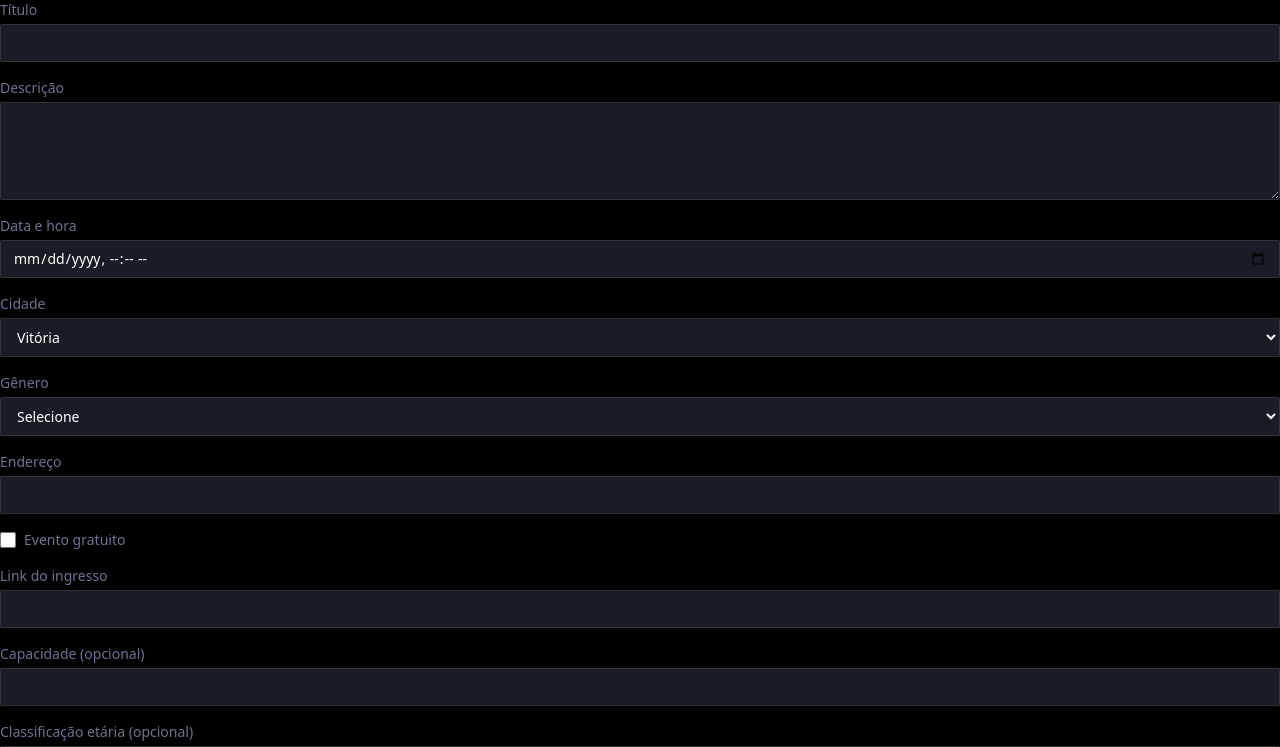
Test case: EventForm › GIVEN a free event toggle WHEN checked THEN the ticket link field disappears
The image size is (1280, 747).
Check: the field labelled "Link do ingresso" is shown, box [0,590,1279,628]
Click the checkbox labelled "Evento gratuito" at (8, 540), box [0,532,16,548]
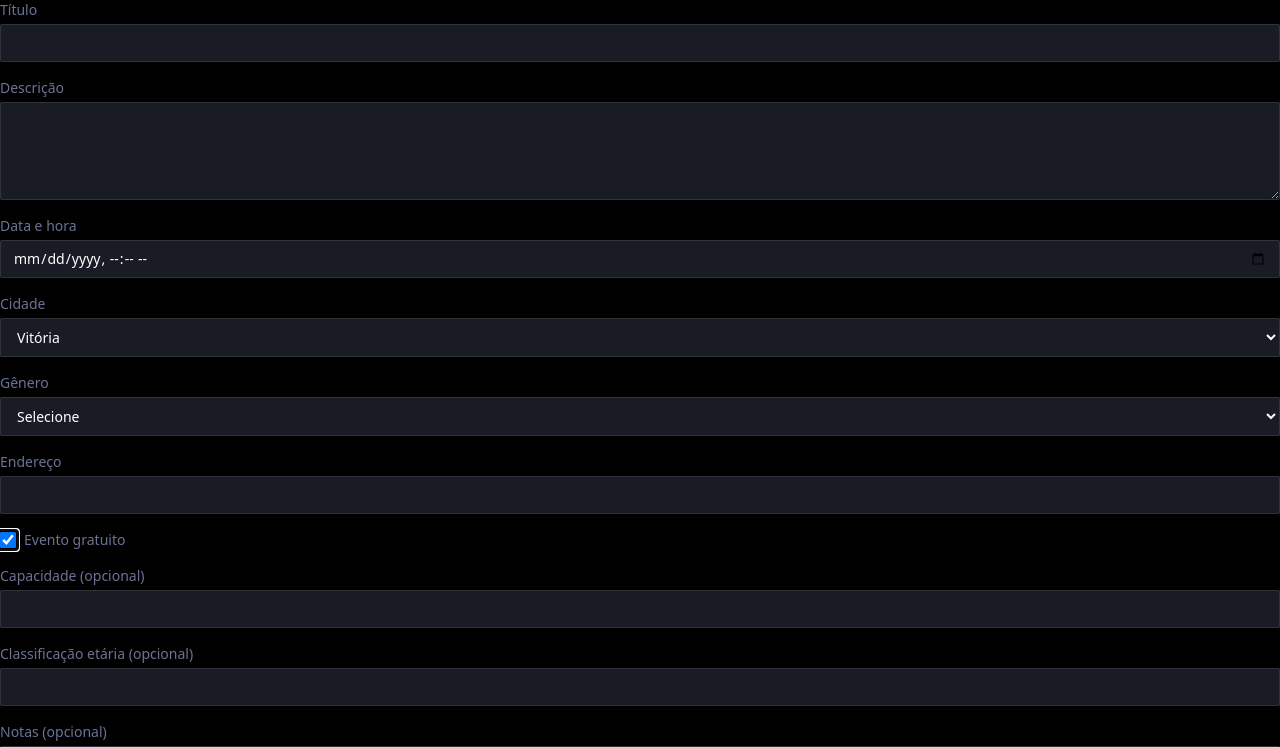
Check: the label labelled "Link do ingresso" is gone
